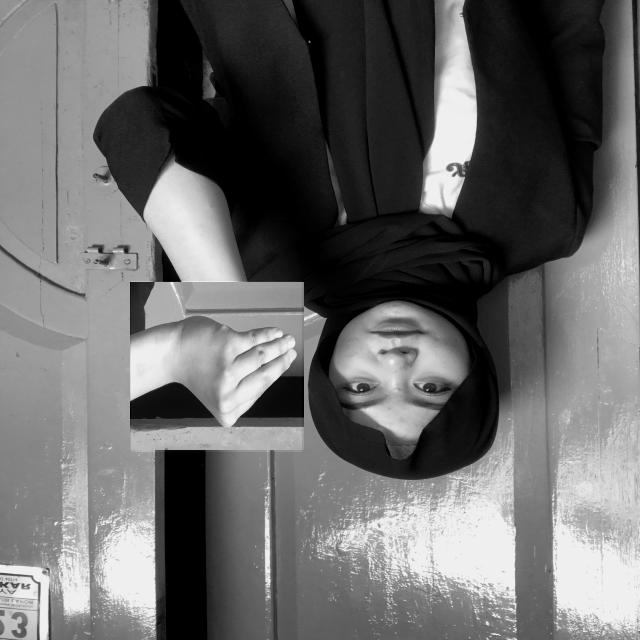kapan: (131, 281, 302, 452)
